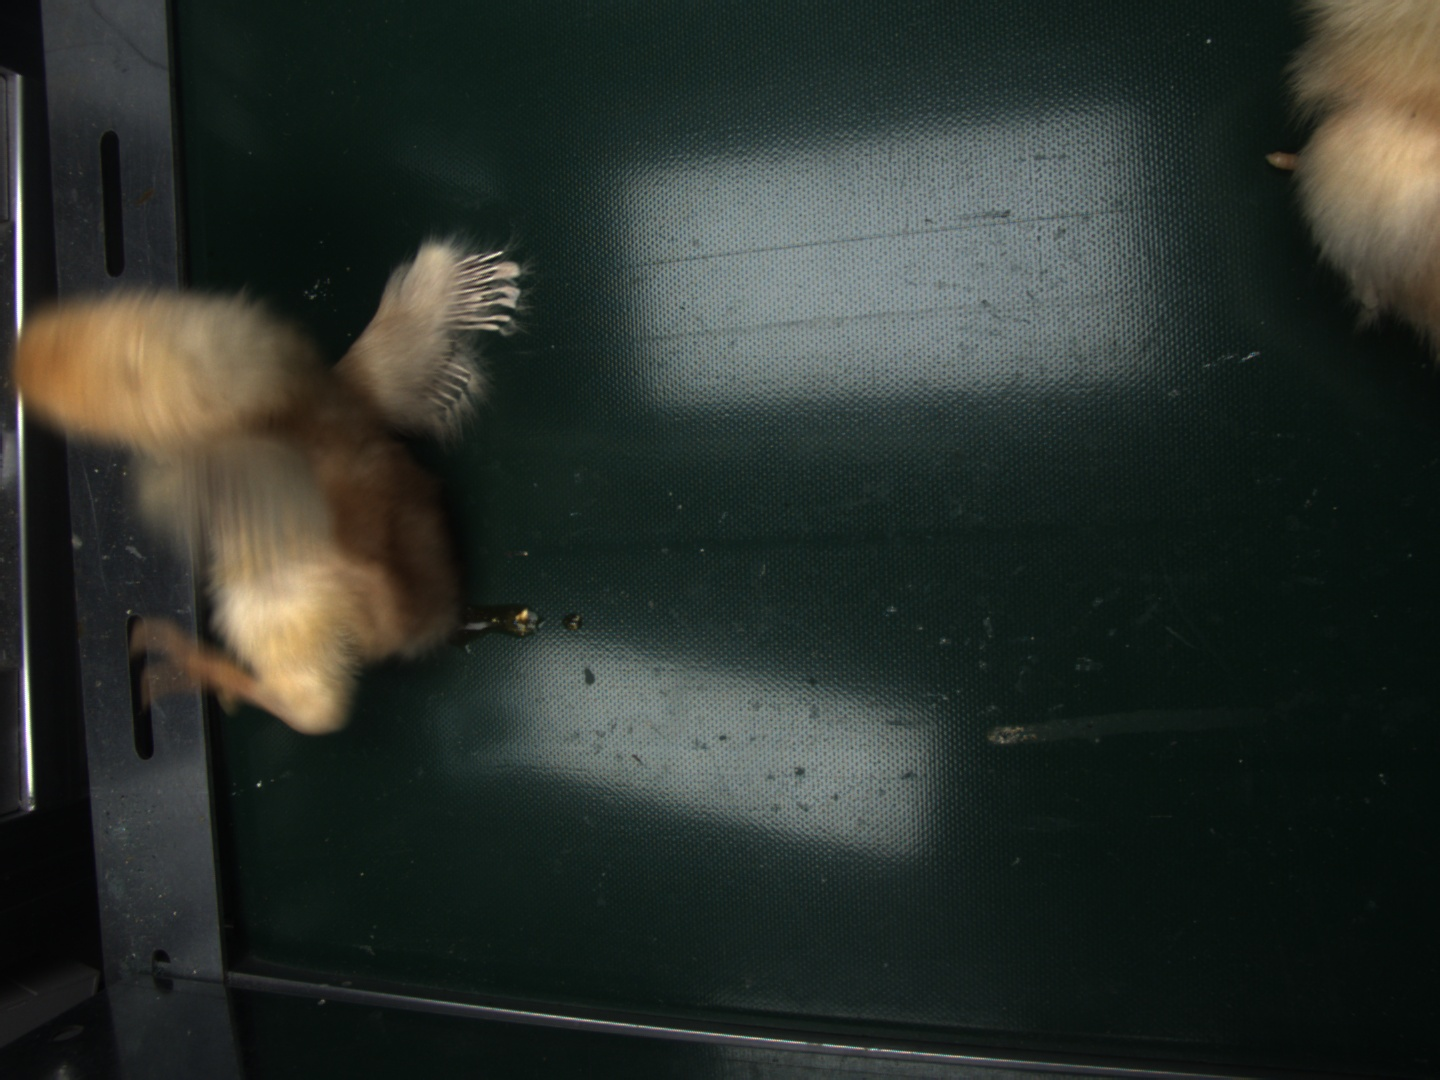female: (449, 248, 520, 327)
